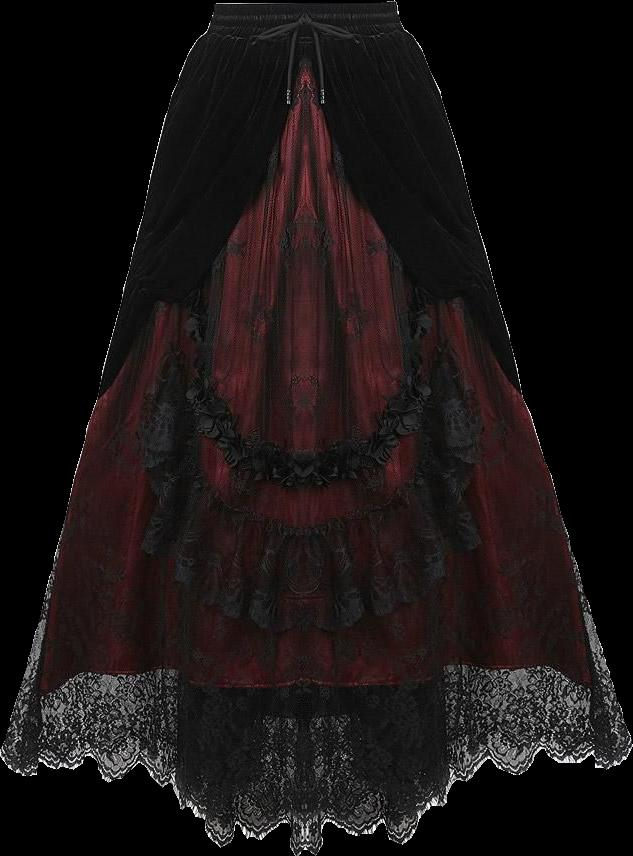Hemline: (306, 50, 523, 395), (99, 47, 313, 394), (0, 746, 632, 855), (14, 654, 616, 697)
Waistline: (203, 26, 406, 48), (213, 0, 397, 12)
